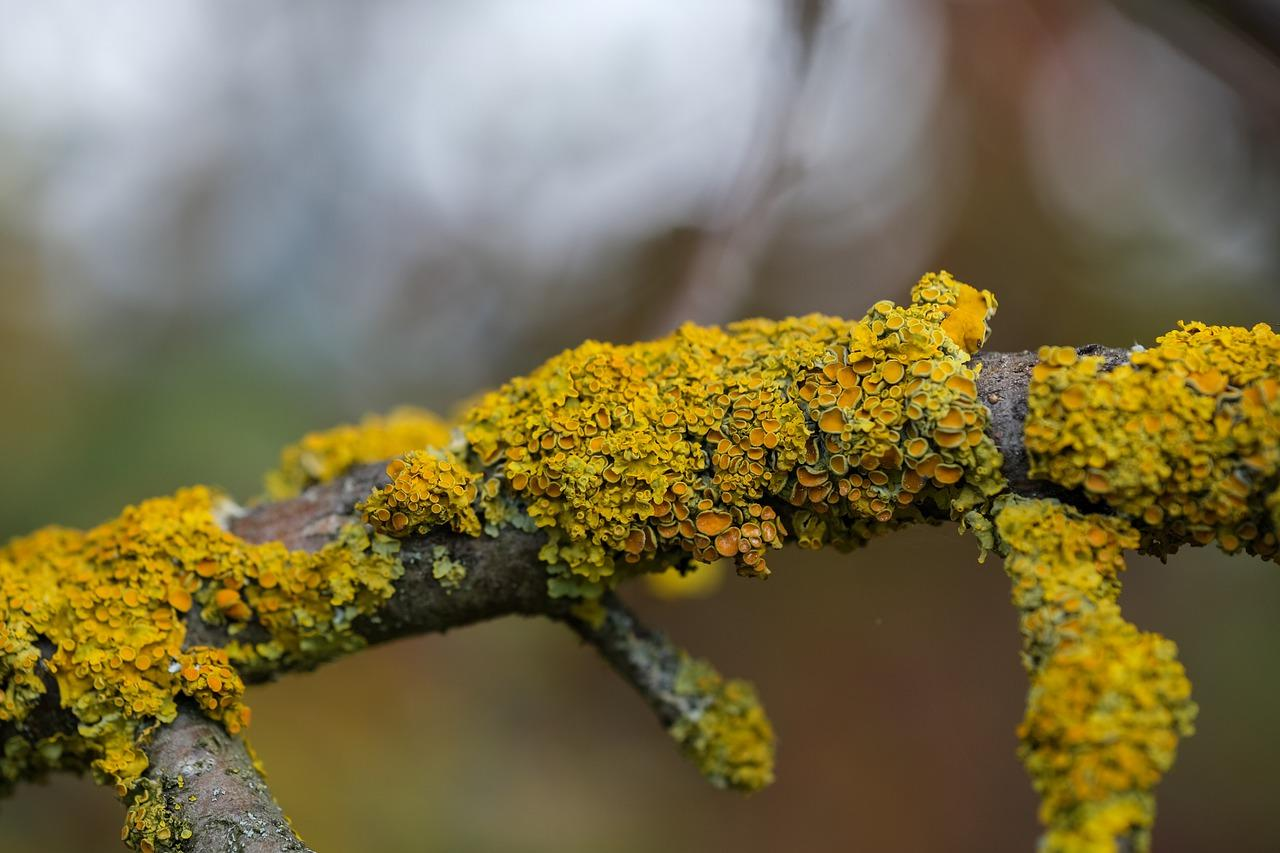lichen: (460, 275, 999, 597), (0, 486, 401, 793), (996, 499, 1196, 852), (1023, 323, 1279, 556), (265, 407, 450, 498), (668, 655, 773, 792), (358, 450, 480, 536)
